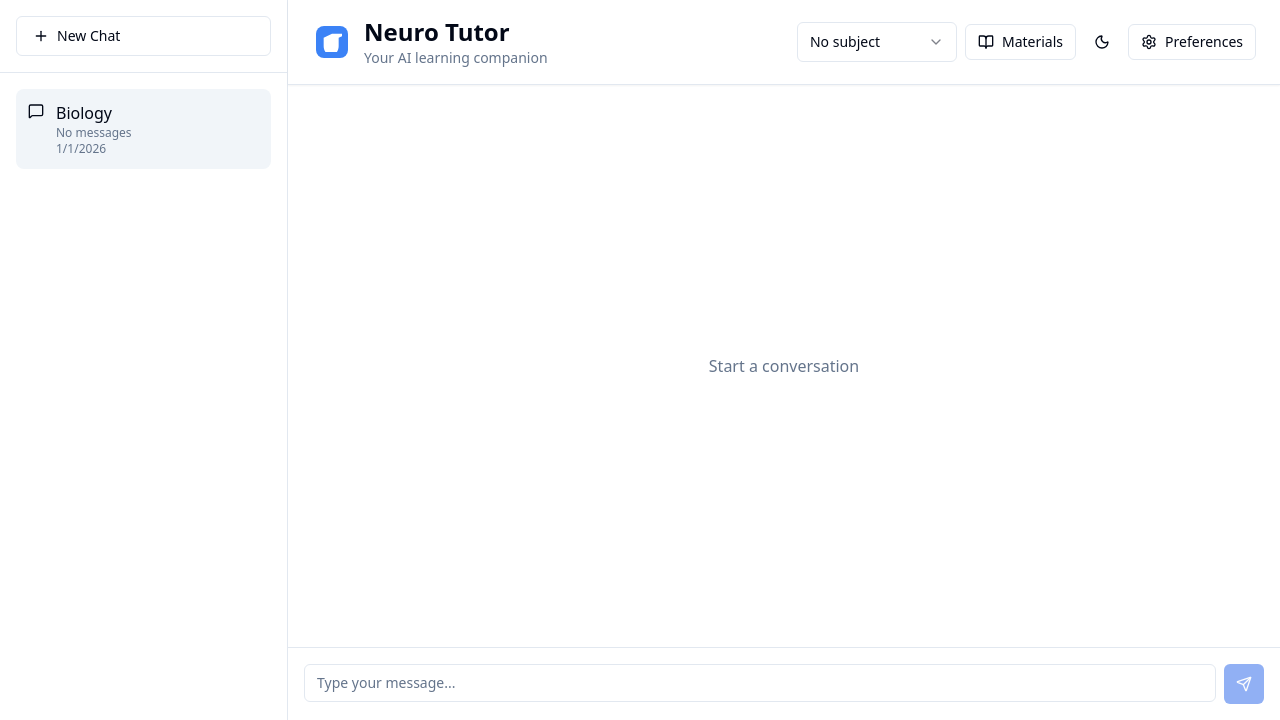
it: ChatPage › renders and shows an optimistic user message after sending
In the text box with placeholder "Type your message...": (760, 683) [304, 664, 1216, 702], type "Help me with photosynthesis"
Then press Enter
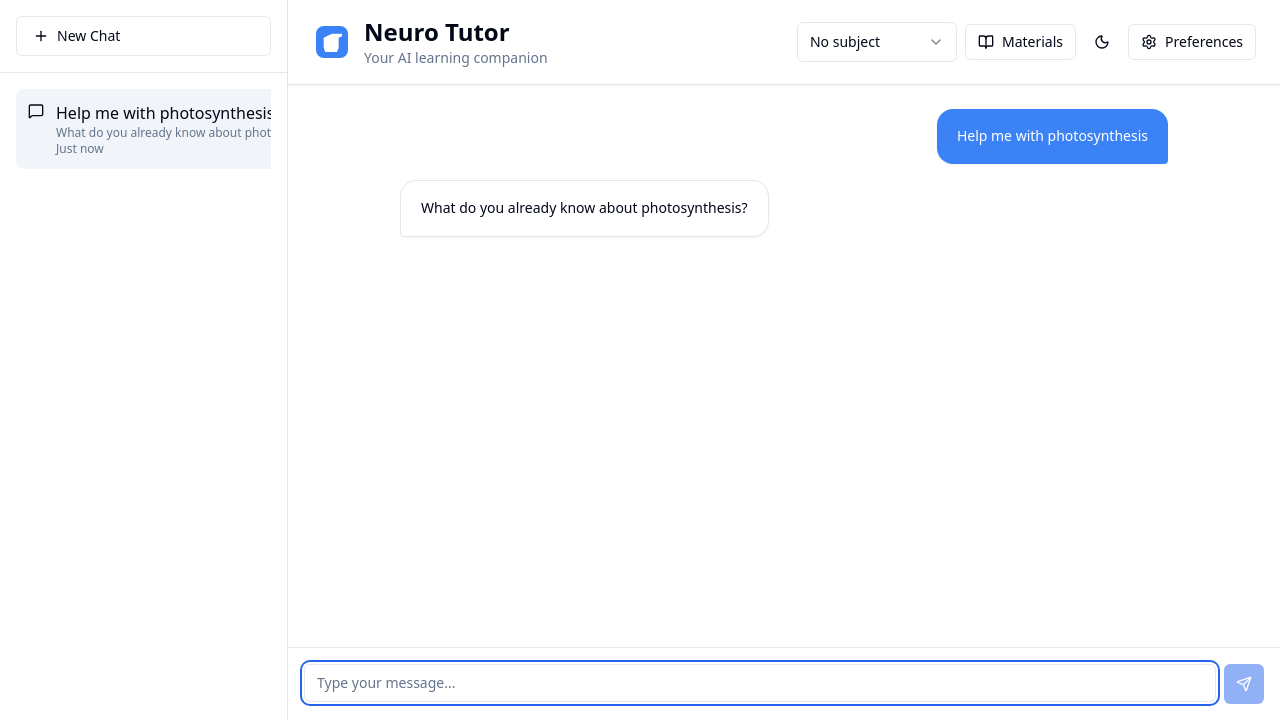
Check: the 2nd text "Help me with photosynthesis" is shown, box [937, 109, 1168, 164]
Check: the text "What do you already know about photosynthesis?" below "Your AI learning companion" is shown, box [421, 198, 748, 217]
